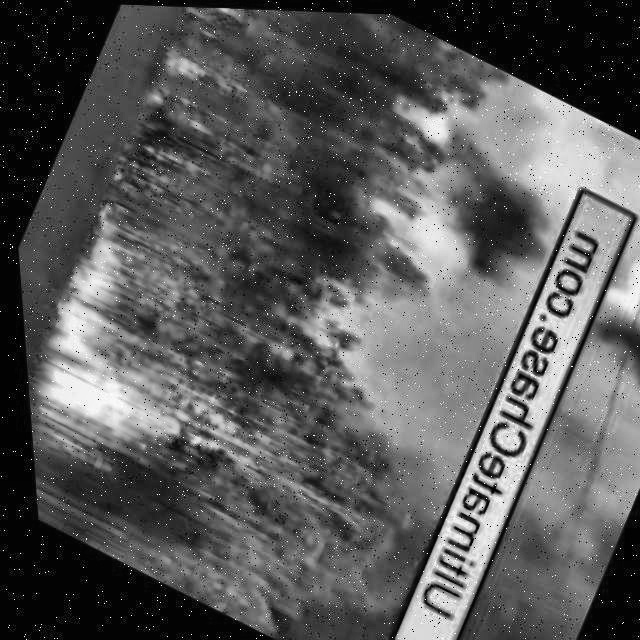Fire: (12, 214, 219, 453), (156, 38, 212, 90), (195, 6, 260, 22)
Smoke: (162, 28, 638, 640), (394, 268, 640, 640)
